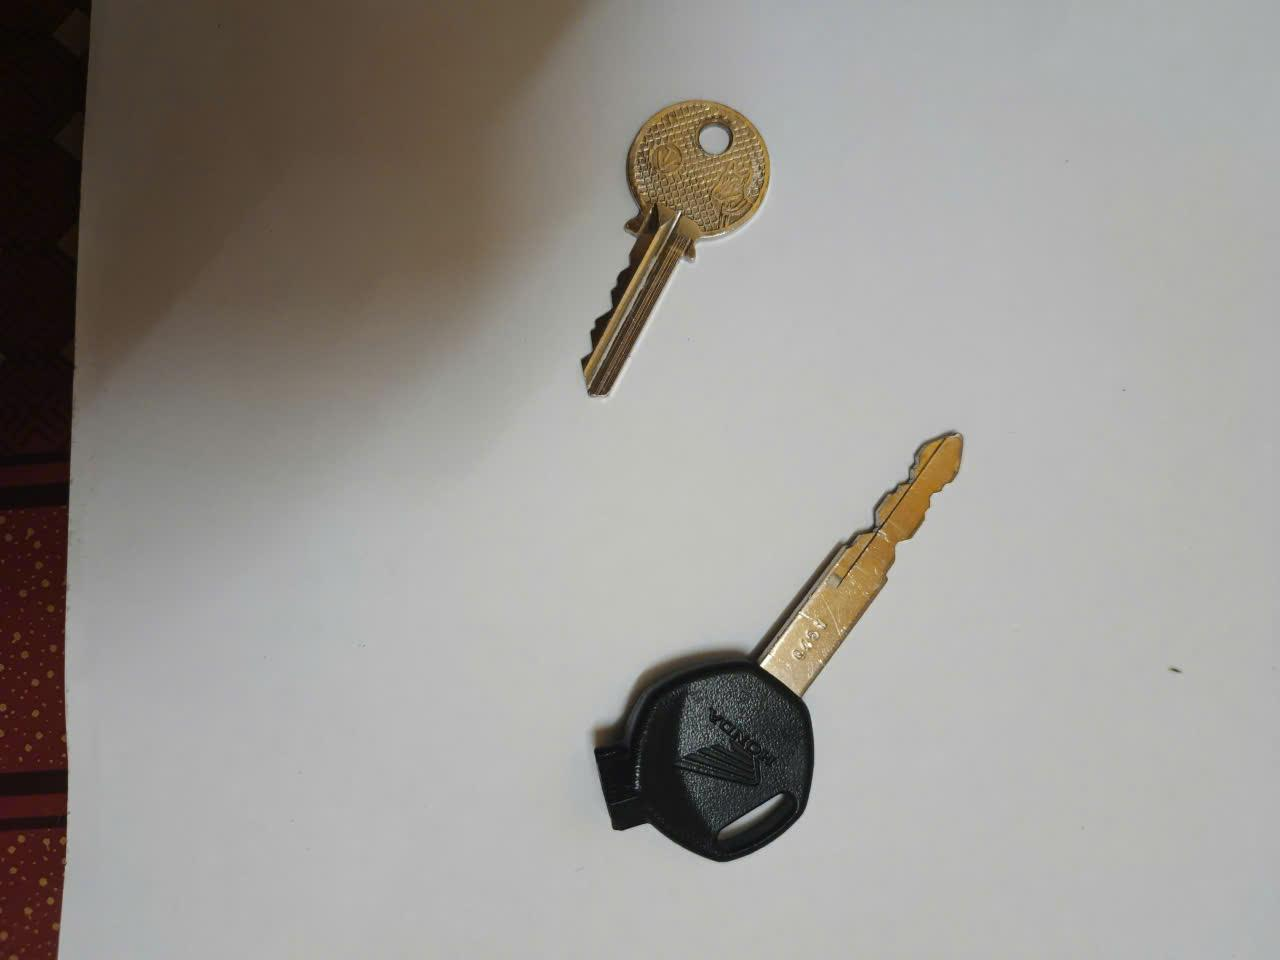Vo co: (590, 429, 965, 866), (580, 101, 774, 397)
